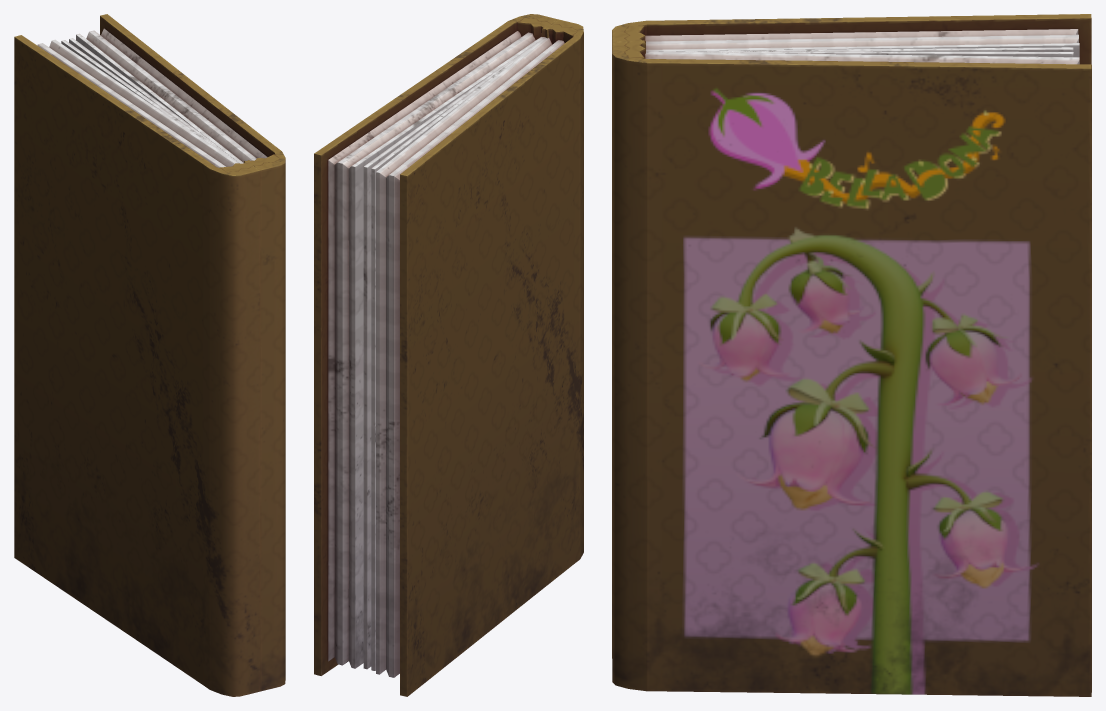
File: Campanilla.fbx
3 renders of one model, left to right at view 1: azimuth 30°, elevation 25°; view 2: azimuth 150°, elevation 25°; view 3: azimuth 270°, elevation 25°, orthographic. The views are drawn at different scales.
Parts seen in each view (by area): view 1: libro5Detras, libro5Delante, Pagina1Libro5, Pagina2Libro5; view 2: libro5Detras, libro5Delante, Pagina1Libro5, Pagina2Libro5; view 3: libro5Delante, libro5Detras, Pagina1Libro5, Pagina2Libro5.
Part boxes in pixels (bbox=[...]): libro5Detras: bbox=[14, 35, 260, 696]; libro5Delante: bbox=[76, 14, 285, 691]; Pagina1Libro5: bbox=[69, 38, 238, 162]; Pagina2Libro5: bbox=[61, 40, 235, 160]; libro5Detras: bbox=[376, 19, 583, 696]; libro5Delante: bbox=[314, 14, 557, 675]; Pagina1Libro5: bbox=[363, 56, 518, 669]; Pagina2Libro5: bbox=[371, 43, 536, 670]; libro5Delante: bbox=[612, 40, 1091, 696]; libro5Detras: bbox=[612, 14, 1091, 658]; Pagina1Libro5: bbox=[664, 51, 1073, 57]; Pagina2Libro5: bbox=[669, 47, 1073, 52].
Bounding box in the file's own units: 17.02 × 90.92 × 62.92.
Materials: 2 (2 with a texture image).
